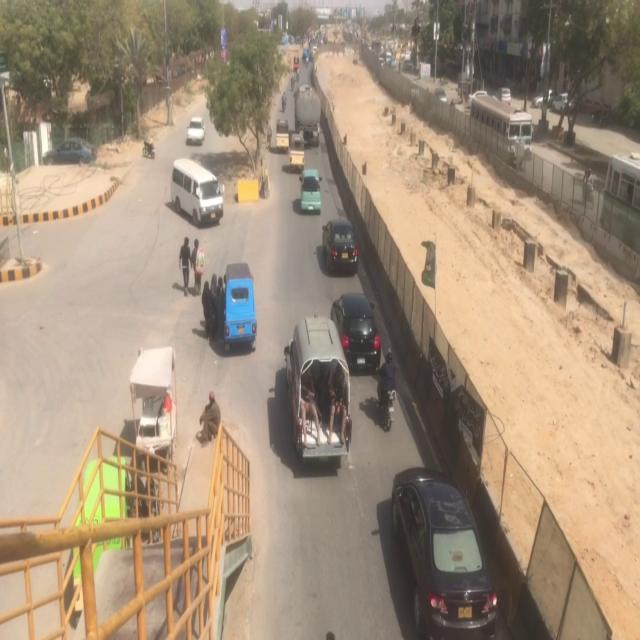car: (383, 456, 504, 640), (319, 218, 363, 277), (298, 165, 324, 217), (185, 111, 210, 148)
motorbike: (374, 341, 406, 435), (140, 133, 160, 169), (280, 89, 288, 114)
truck: (293, 77, 325, 146)
